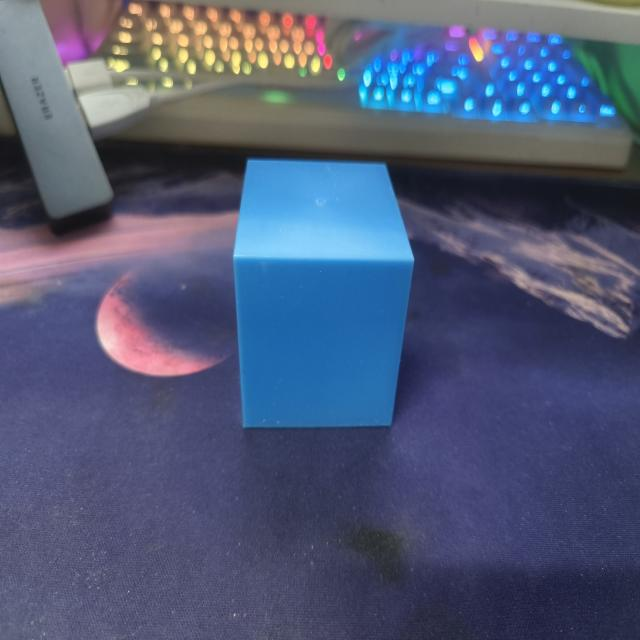blue: (231, 158, 415, 433)
